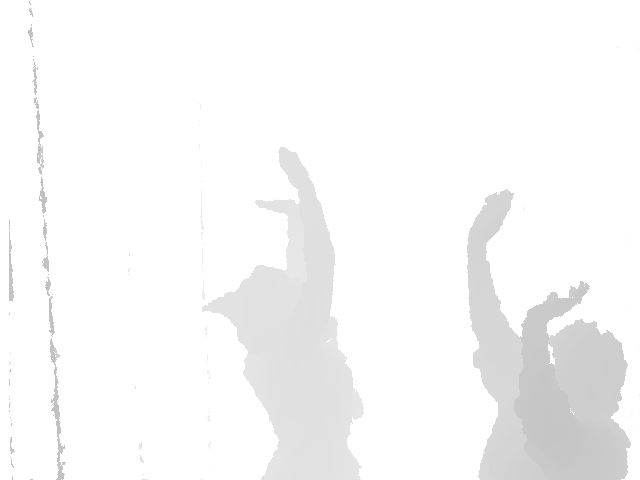hand: (520, 279, 596, 323), (465, 184, 517, 246), (276, 143, 316, 194), (254, 190, 302, 218)
head: (201, 265, 308, 342), (548, 320, 628, 422)
person: (200, 145, 368, 480), (457, 183, 638, 480)
